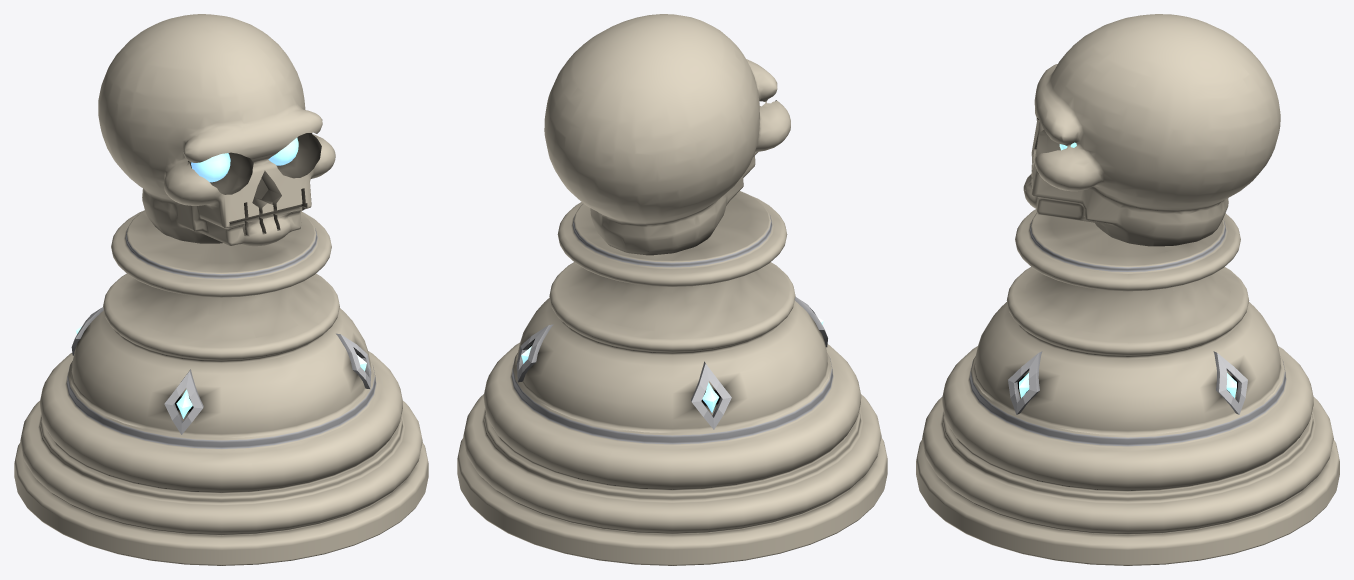
File: pawn.glb
The picture shows the model from 3 angles, left to right: view 1: azimuth 30°, elevation 25°; view 2: azimuth 150°, elevation 25°; view 3: azimuth 270°, elevation 25°; orthographic projection. The views are drawn at different scales.
Parts seen in each view (by area): view 1: pawn; view 2: pawn; view 3: pawn.
Boxes of the visible parts, x1,y1,x2,y2 form: pawn: (14,14,428,565); pawn: (457,14,887,565); pawn: (916,14,1339,565).
Bounding box in the file's own units: 0.72 × 0.85 × 0.72.
